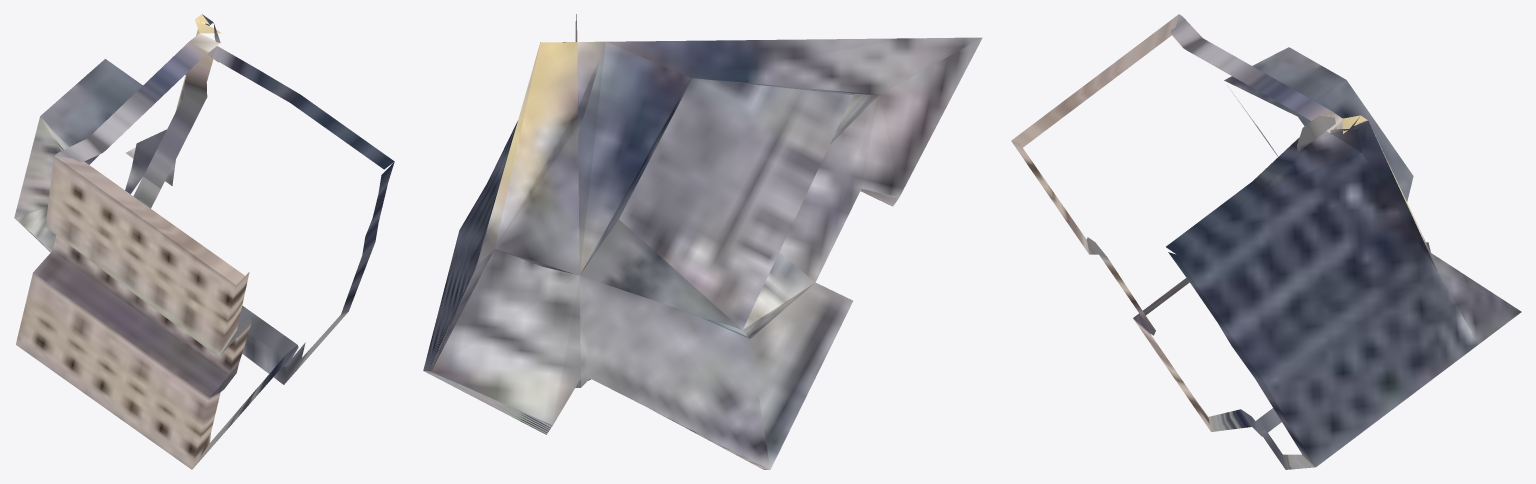
The picture shows the model from 3 angles, left to right: view 1: azimuth 30°, elevation 25°; view 2: azimuth 150°, elevation 25°; view 3: azimuth 270°, elevation 25°; orthographic projection. The views are drawn at different scales.
Bounding box in the file's own units: 35.46 × 34.83 × 45.02.
1 material, 1 textured.
